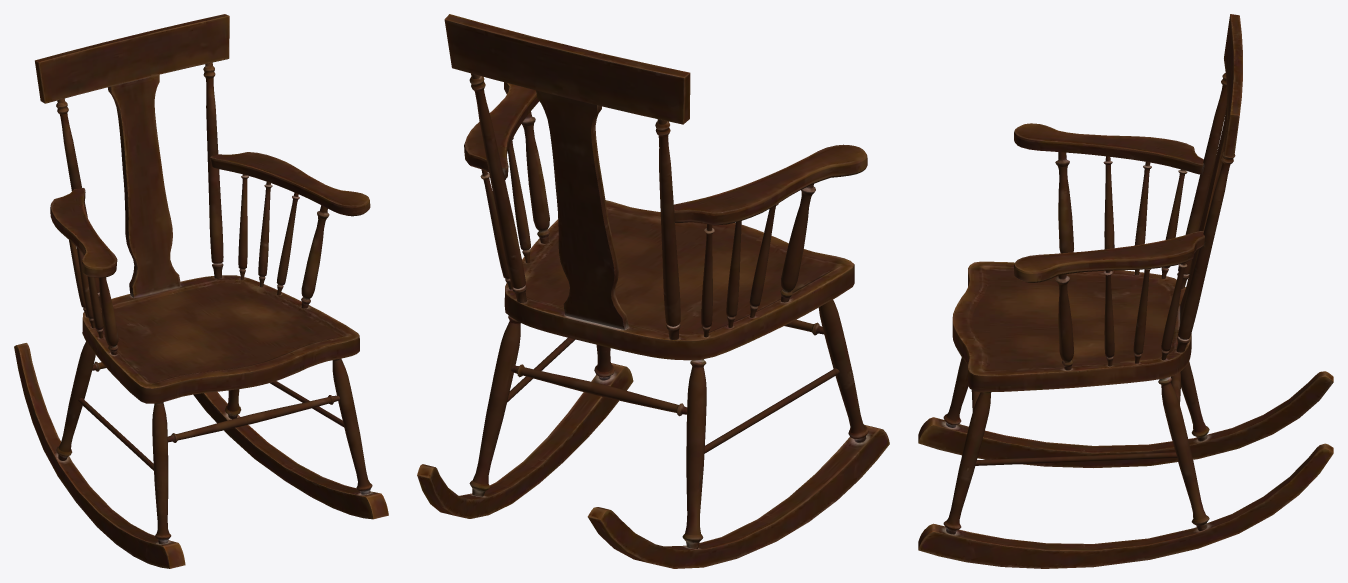
Rendered from Rockingchair_01.glb.
3 renders of one model, left to right at view 1: azimuth 30°, elevation 25°; view 2: azimuth 150°, elevation 25°; view 3: azimuth 270°, elevation 25°, orthographic. The views are drawn at different scales.
Visible parts, largest first — view 1: Rockingchair_01; view 2: Rockingchair_01; view 3: Rockingchair_01.
Part boxes in pixels (<box>): Rockingchair_01: <box>14,14,388,568</box>; Rockingchair_01: <box>417,14,889,568</box>; Rockingchair_01: <box>918,14,1333,568</box>.
Size of the model in its own units: 0.7081 by 0.9949 by 0.8335.
1 material, 1 textured.
